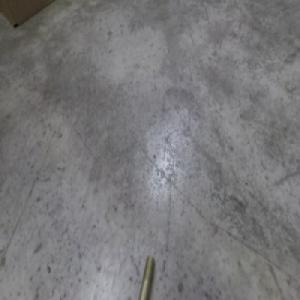Bolt: (137, 254, 155, 299)
